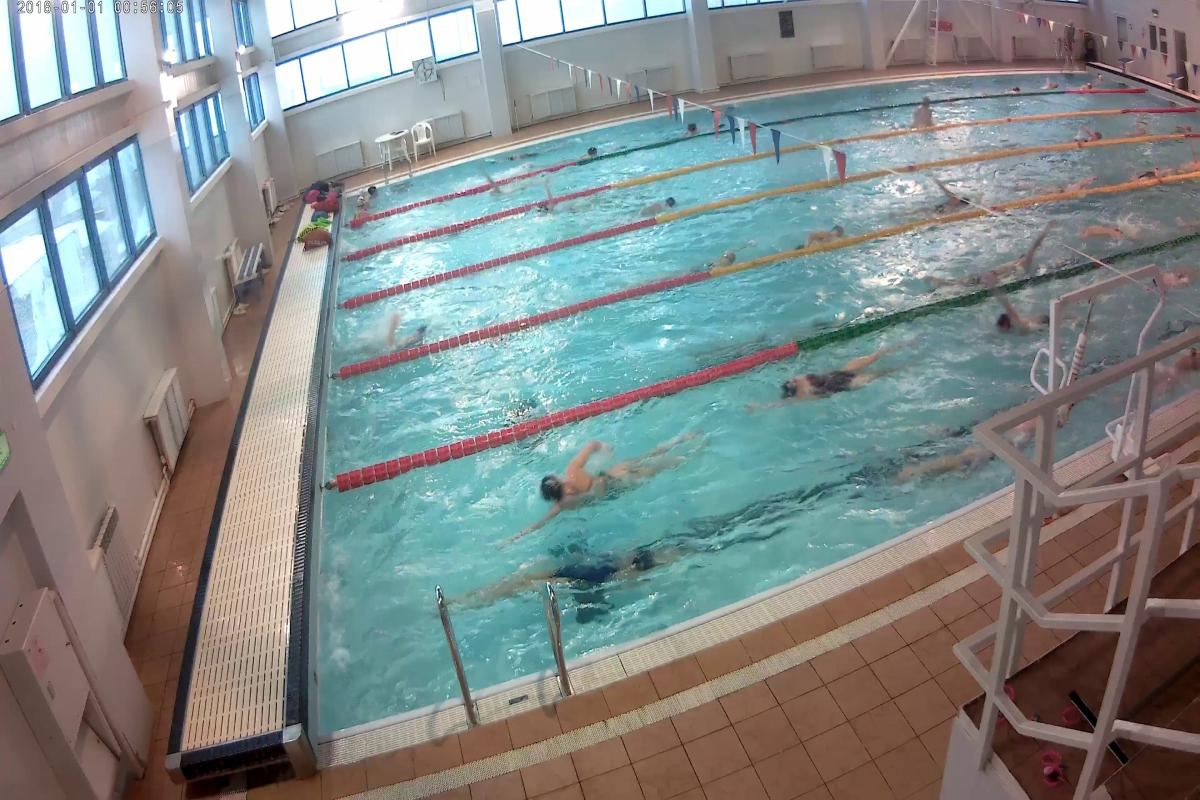swimmer: (503, 434, 686, 522), (442, 545, 660, 602), (754, 345, 902, 411), (945, 227, 1055, 284), (989, 301, 1045, 335), (795, 214, 849, 245), (1072, 218, 1132, 245), (690, 250, 737, 275), (1068, 116, 1107, 144), (904, 90, 938, 120), (639, 195, 676, 218)
